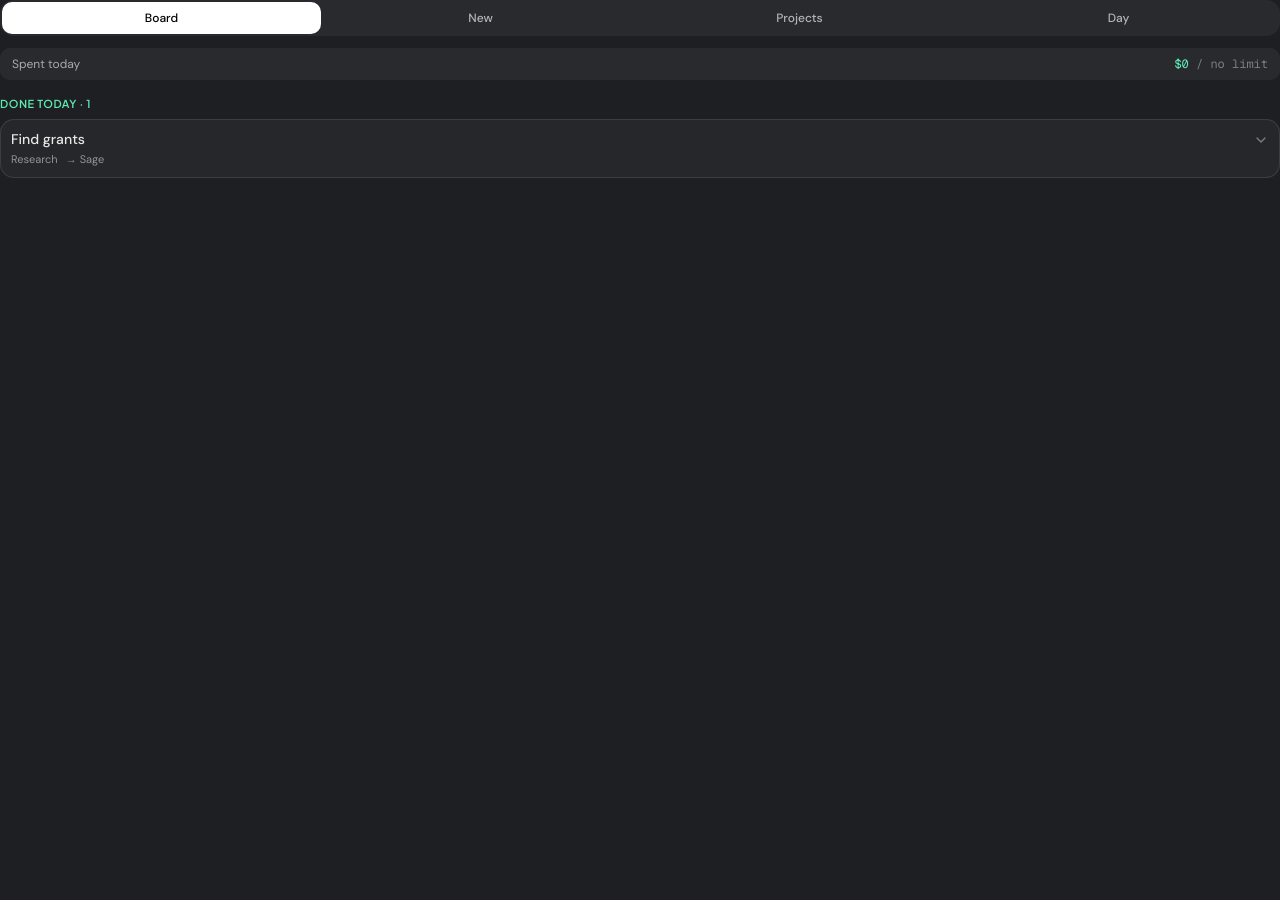
Plan panel › offers Use it on delivered results, with tasks found in the result
Click the text "Find grants". click: (48, 138)
box: [11,130,85,148]
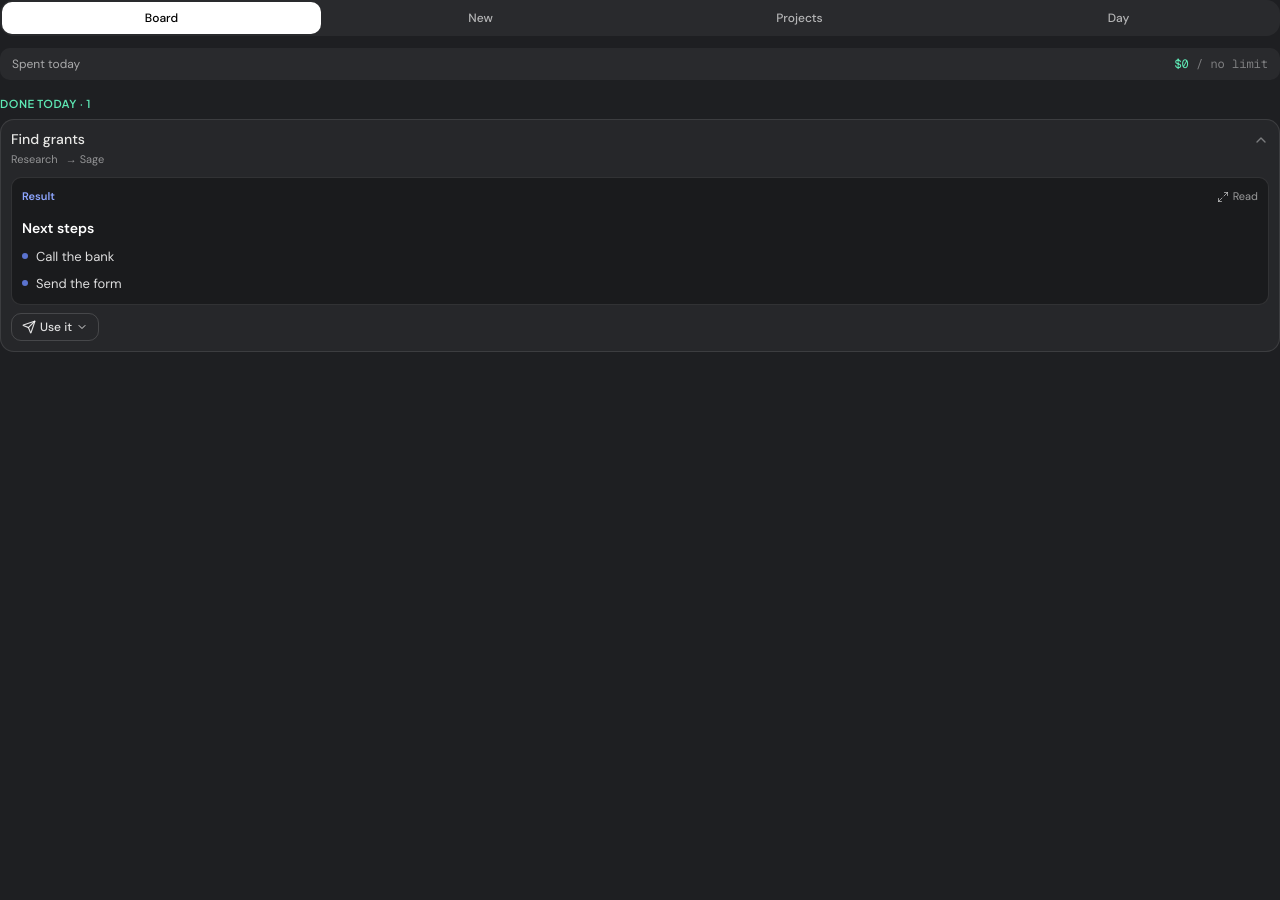
Click the button "Use it". click: (55, 327)
box: [11,313,99,341]
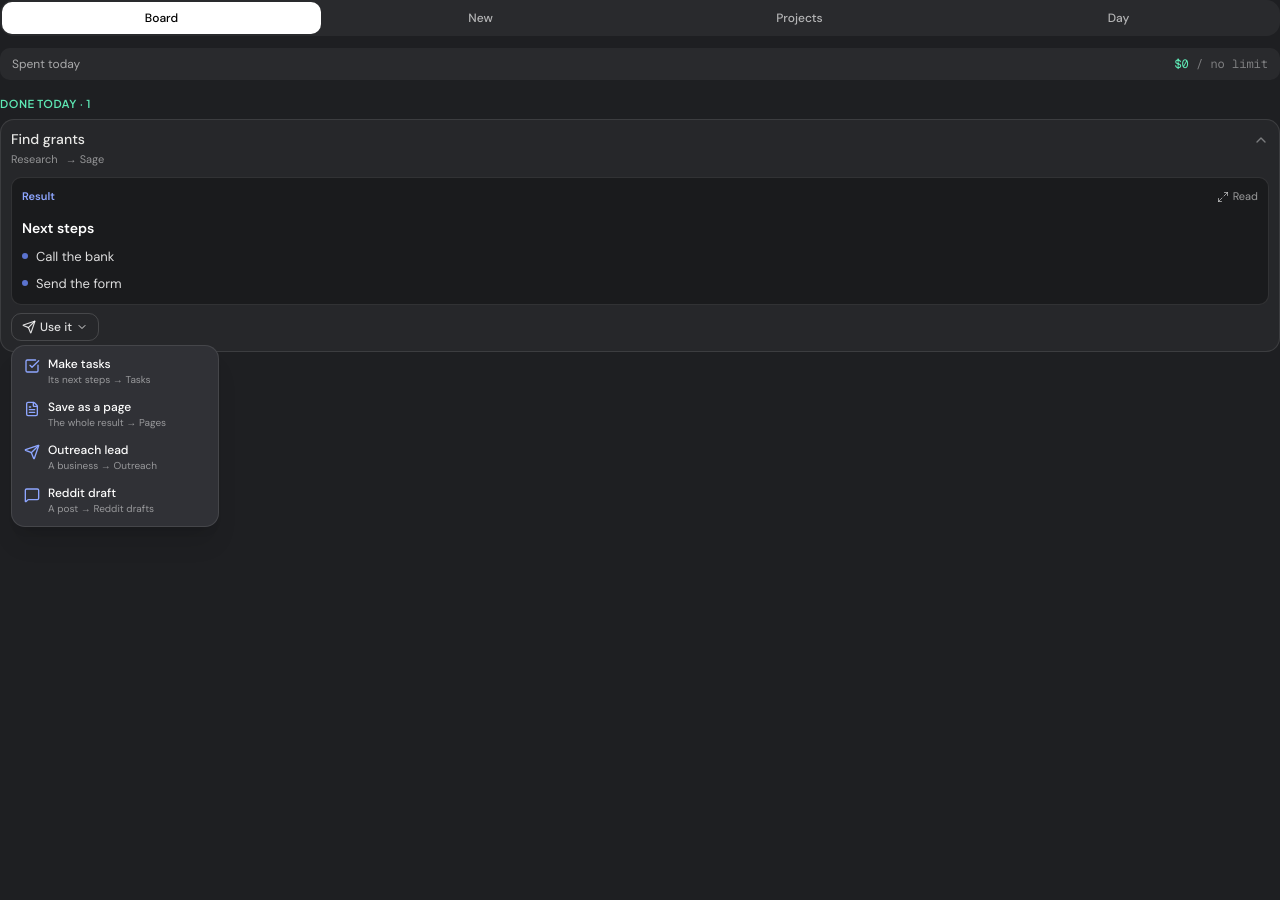
Click the button "Make tasks Its next steps → Tasks". click: (115, 371)
box: [16,350,214,393]
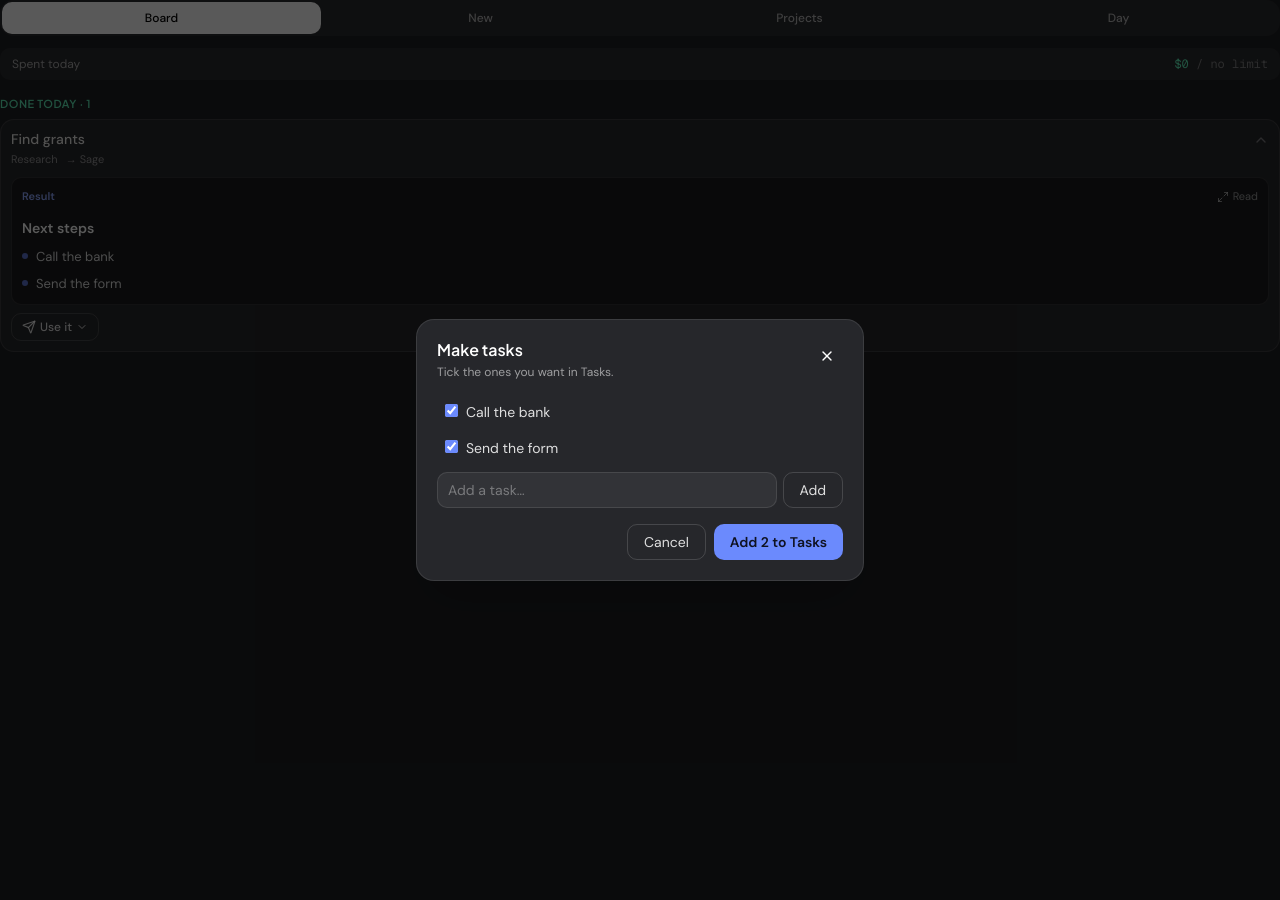
Expected: the text "Call the bank" is shown 2 times, [36,246,114,267]; [466,402,550,422]
Expected: the button "Add 2 to Tasks" is shown, [714,524,843,560]
